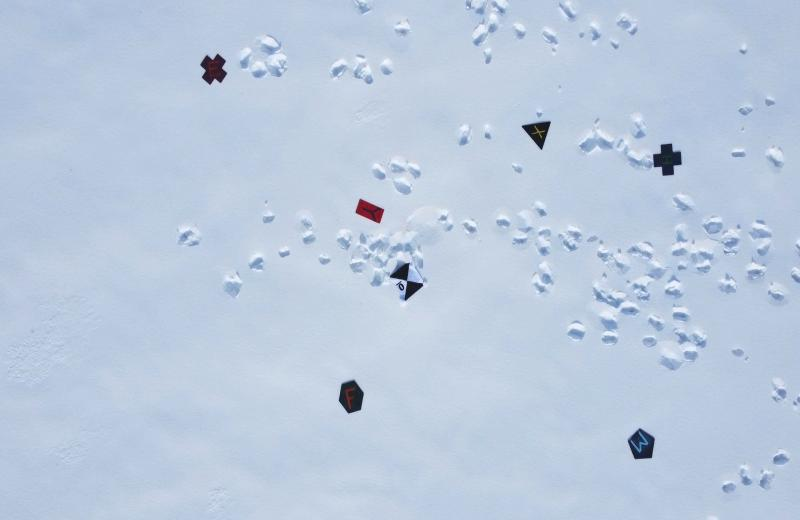Cross: (649, 142, 685, 180), (198, 51, 230, 88)
Hexagon: (337, 377, 367, 419)
Pentagon: (622, 425, 656, 462)
Rectangle: (355, 195, 386, 227)
Triangle: (519, 118, 555, 154)
